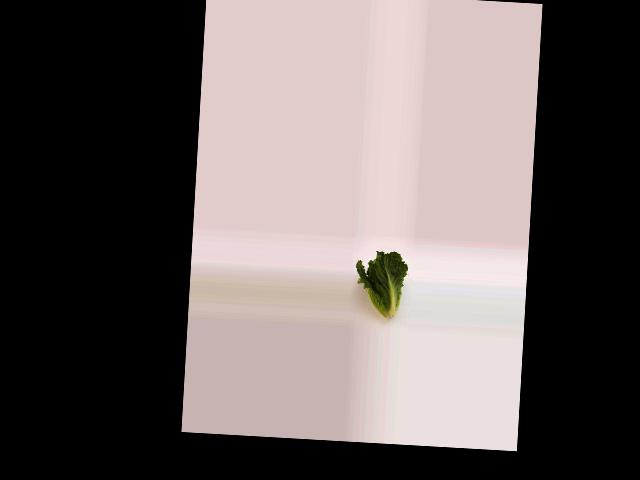lettuce: (355, 247, 410, 326)
